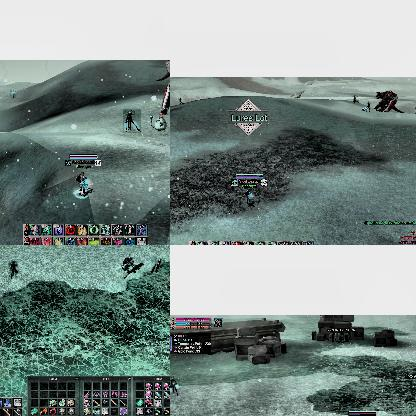caliana: (123, 109, 141, 133), (151, 258, 165, 272), (170, 376, 180, 395), (9, 260, 17, 278), (360, 102, 372, 110), (10, 90, 16, 98), (352, 94, 356, 104), (178, 98, 182, 104)
